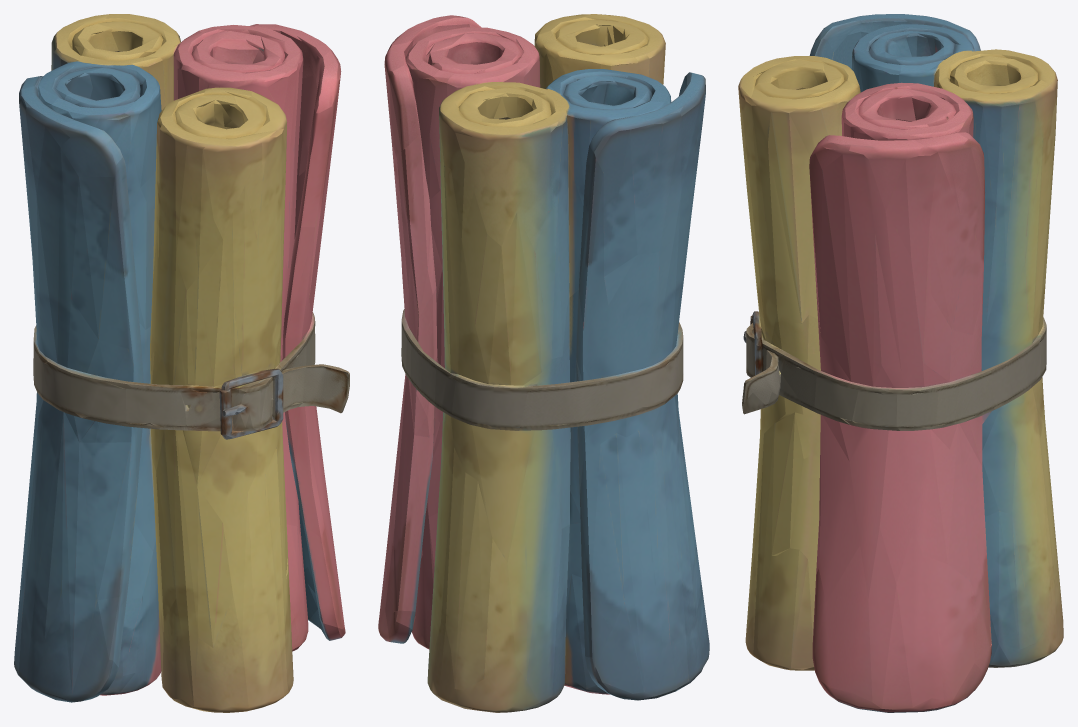
File: materassini_arrotolati.glb
3 views of the same model, side by side, from view 1: azimuth 30°, elevation 25°; view 2: azimuth 150°, elevation 25°; view 3: azimuth 270°, elevation 25° (orthographic). The views are drawn at different scales.
Visible parts, largest first — view 1: Mesh_0; view 2: Mesh_0; view 3: Mesh_0.
Part boxes in pixels (x1,y1,x2,y2): Mesh_0: (14, 14, 349, 712); Mesh_0: (378, 14, 709, 712); Mesh_0: (738, 14, 1063, 712).
Size of the model in its own units: 1 by 1.9 by 0.9796.
Materials: 1 (1 with a texture image).
